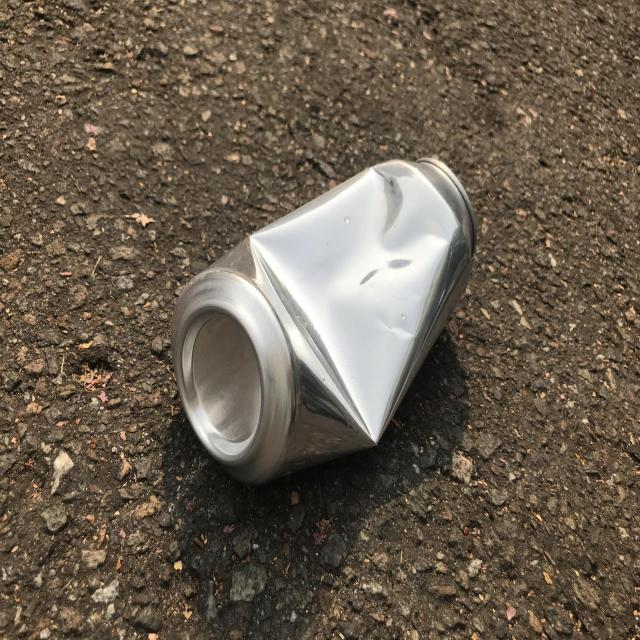can: (171, 157, 477, 485)
